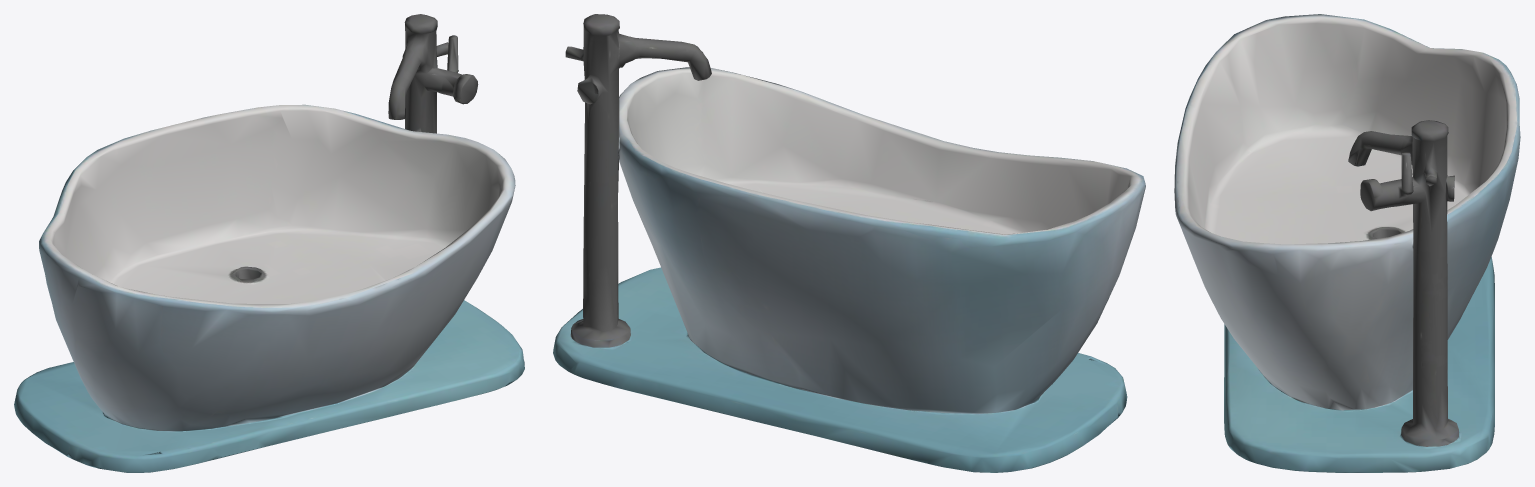
The model's file is hotel-bath-tub.glb.
3 views of the same model, side by side, from view 1: azimuth 30°, elevation 25°; view 2: azimuth 150°, elevation 25°; view 3: azimuth 270°, elevation 25° (orthographic). The views are drawn at different scales.
Parts seen in each view (by area): view 1: world; view 2: world; view 3: world.
Part boxes in pixels (x1,y1,x2,y2): world: (14,14,524,472); world: (553,14,1145,472); world: (1174,14,1520,472).
Bounding box in the file's own units: 1 × 0.6223 × 0.5992.
1 material, 1 textured.
